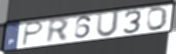3: (123, 9, 144, 35)
6: (74, 15, 92, 41)
O: (146, 6, 169, 32)
P: (20, 21, 46, 48)
R: (45, 18, 70, 45)
U: (95, 9, 122, 38)
